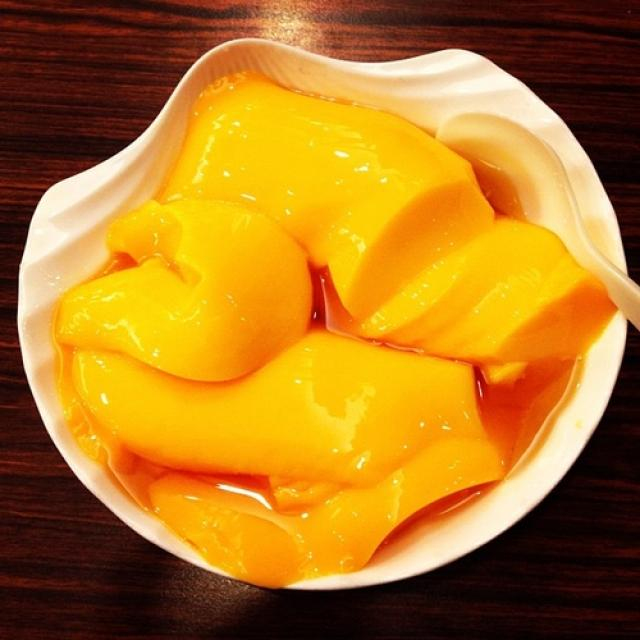蛋糕甜品: (30, 37, 628, 616)
